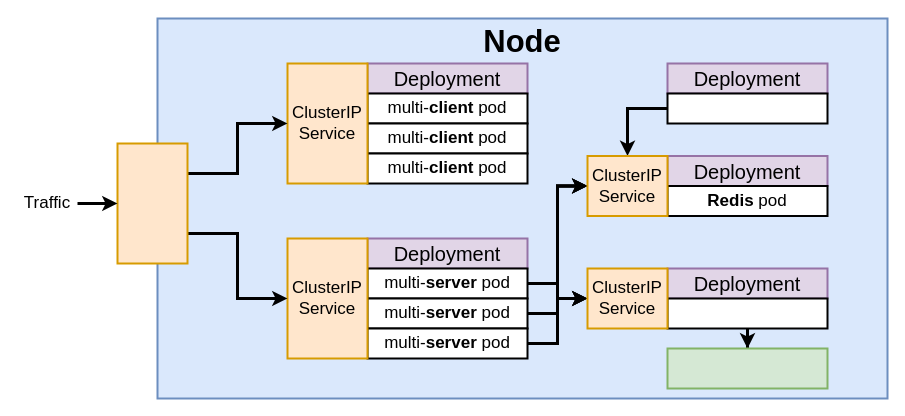
Some shapes in this 905 by 416 pixel diagram are drawn without their labels. Here are the shapes that lost their labels. From the top down, the centre of each, then its label:
At [747,108]: "multi- worker pod".
At [152,203]: "Ingress Service".
At [747,313]: "Postgres pod".
At [747,368]: "Postgres PVC".
